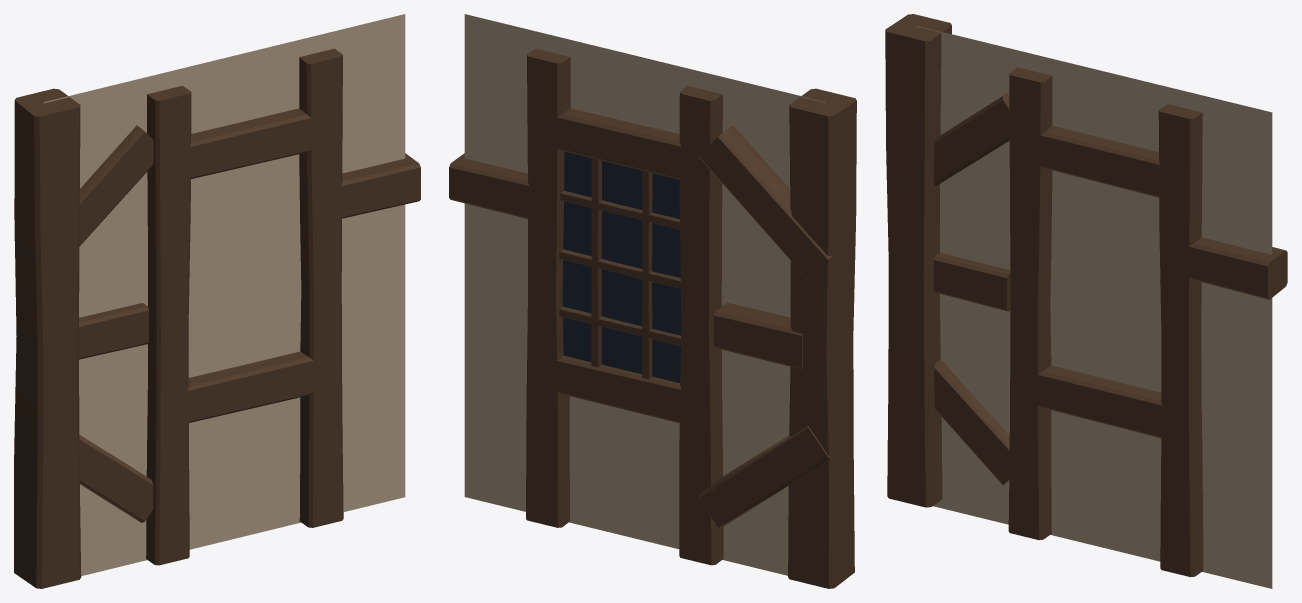
Rendered from WindowWall3.fbx.
3 views of the same model, side by side, from view 1: azimuth 30°, elevation 25°; view 2: azimuth 150°, elevation 25°; view 3: azimuth 330°, elevation 25° (orthographic).
Parts seen in each view (by area): view 1: Cube.014; view 2: Cube.014; view 3: Cube.014.
Part boxes in pixels (x1=…): Cube.014: x1=14, y1=14, x2=420, y2=588; Cube.014: x1=449, y1=14, x2=856, y2=588; Cube.014: x1=885, y1=14, x2=1287, y2=588.
Size of the model in its own units: 2.14 by 2.56 by 0.2518.
